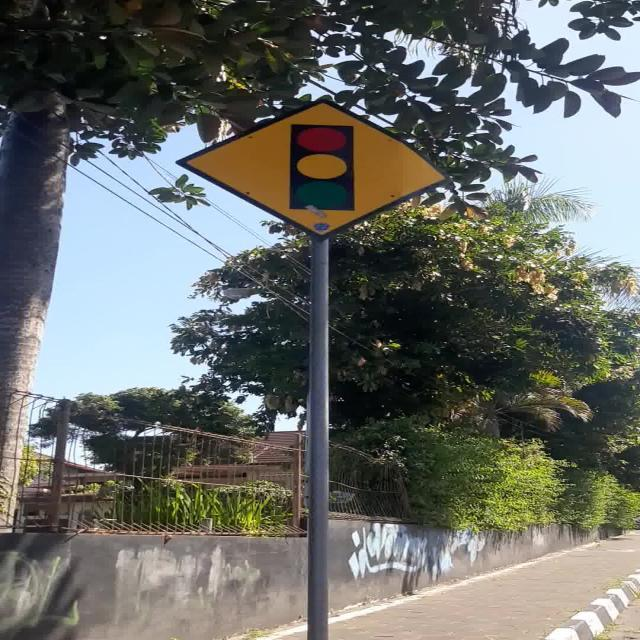Lampu Lalu Lintas: (174, 97, 451, 238)
